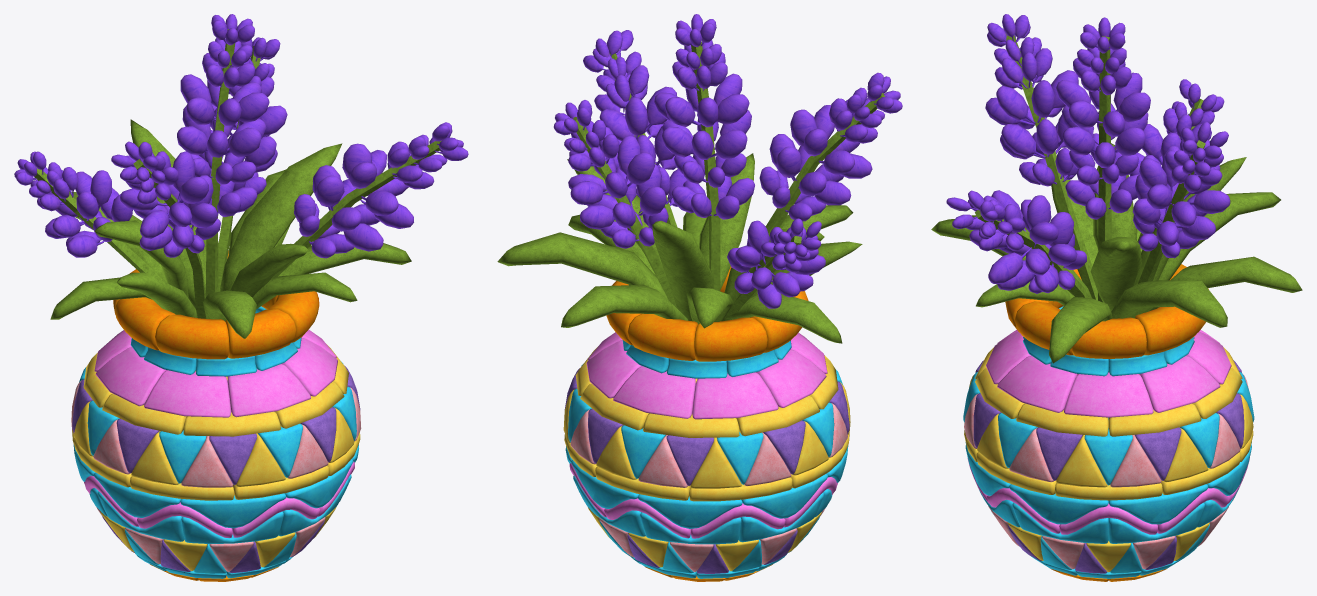
File: Level_P_30.fbx
3 views of the same model, side by side, from view 1: azimuth 30°, elevation 25°; view 2: azimuth 150°, elevation 25°; view 3: azimuth 270°, elevation 25° (orthographic).
Parts seen in each view (by area): view 1: lavender_stem.005, lavender_stem.004, lavender_stem.006, lavender_stem, Leafy Tall Grass.014, lavender_stem.003, lavender_stem.001, Cylinder.167, Cylinder.146, Cylinder.106, lavender_stem.009, lavender_stem.002 (+53 smaller); view 2: lavender_stem.004, lavender_stem, lavender_stem.002, lavender_stem.006, Leafy Tall Grass.009, lavender_stem.003, lavender_stem.005, lavender_stem.001, Cylinder.124, Leafy Tall Grass.013, lavender_stem.009, Leafy Tall Grass.004 (+54 smaller); view 3: lavender_stem.004, lavender_stem.006, lavender_stem, lavender_stem.002, lavender_stem.005, Leafy Tall Grass.009, lavender_stem.009, Cylinder.131, lavender_stem.007, lavender_stem.001, Cylinder.153, Cylinder.139 (+54 smaller).
Boxes of the visible parts, bbox=[...] form: lavender_stem.005: bbox=[270, 143, 413, 279]; lavender_stem.004: bbox=[120, 151, 220, 318]; lavender_stem.006: bbox=[180, 14, 269, 127]; lavender_stem: bbox=[177, 105, 266, 296]; Leafy Tall Grass.014: bbox=[220, 143, 342, 291]; lavender_stem.003: bbox=[45, 170, 164, 281]; lavender_stem.001: bbox=[374, 122, 468, 189]; Cylinder.167: bbox=[144, 370, 231, 417]; Cylinder.146: bbox=[227, 364, 310, 417]; Cylinder.106: bbox=[155, 314, 229, 359]; lavender_stem.009: bbox=[111, 141, 178, 204]; lavender_stem.002: bbox=[199, 98, 287, 291]; lavender_stem.004: bbox=[759, 105, 872, 236]; lavender_stem: bbox=[662, 110, 754, 290]; lavender_stem.002: bbox=[568, 135, 677, 308]; lavender_stem.006: bbox=[654, 14, 749, 129]; Leafy Tall Grass.009: bbox=[497, 232, 668, 299]; lavender_stem.003: bbox=[724, 220, 825, 320]; lavender_stem.005: bbox=[599, 86, 687, 226]; lavender_stem.001: bbox=[583, 30, 649, 115]; Cylinder.124: bbox=[692, 372, 778, 419]; Leafy Tall Grass.013: bbox=[652, 220, 713, 321]; lavender_stem.009: bbox=[829, 72, 902, 143]; Leafy Tall Grass.004: bbox=[561, 284, 687, 327]; lavender_stem.004: bbox=[985, 70, 1097, 300]; lavender_stem.006: bbox=[1056, 17, 1150, 137]; lavender_stem: bbox=[1061, 103, 1148, 302]; lavender_stem.002: bbox=[1132, 145, 1230, 283]; lavender_stem.005: bbox=[969, 190, 1089, 297]; Leafy Tall Grass.009: bbox=[1111, 280, 1227, 327]; lavender_stem.009: bbox=[987, 14, 1052, 97]; Cylinder.131: bbox=[1064, 372, 1153, 417]; lavender_stem.007: bbox=[1164, 122, 1228, 192]; lavender_stem.001: bbox=[946, 190, 1024, 251]; Cylinder.153: bbox=[997, 355, 1077, 412]; Cylinder.139: bbox=[1140, 356, 1220, 412].
Bounding box in the file's own units: 10.73 × 16.17 × 10.06.
